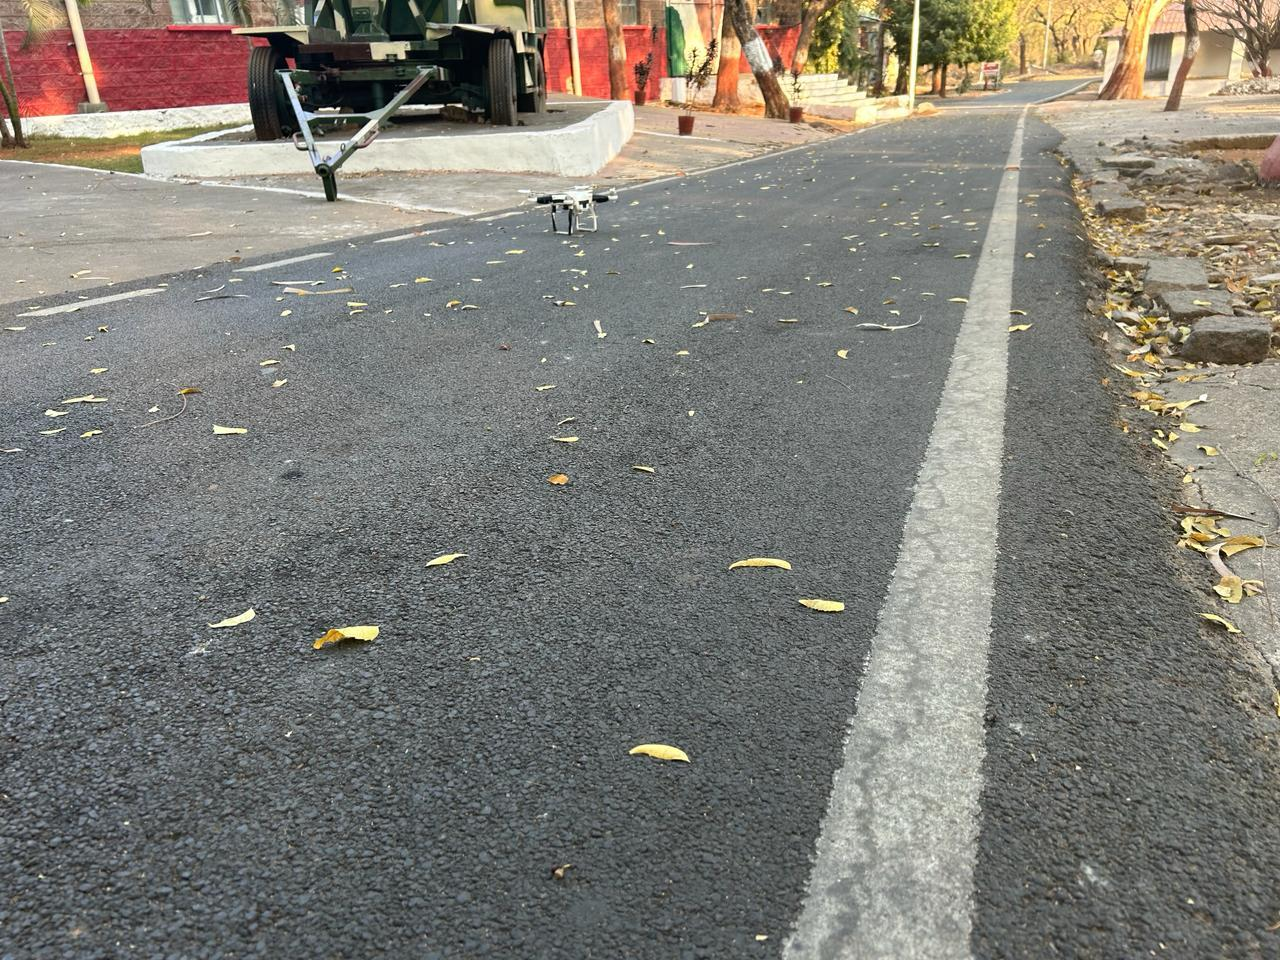drone: (516, 150, 633, 264)
